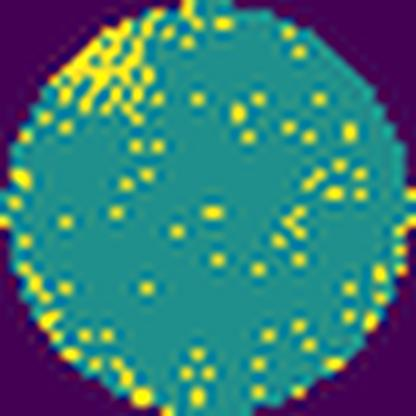Edge-Loc: (41, 0, 162, 125)
